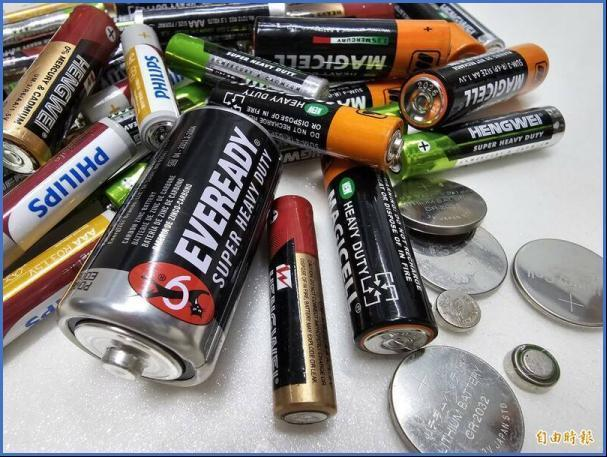AA: (317, 153, 440, 360), (0, 114, 141, 277), (1, 3, 123, 174), (203, 76, 407, 172), (264, 190, 340, 429), (398, 40, 553, 131), (248, 15, 452, 81), (118, 21, 180, 150)
COIN: (386, 344, 528, 454), (509, 236, 604, 336), (393, 173, 489, 238), (502, 342, 563, 395), (431, 288, 485, 337)
